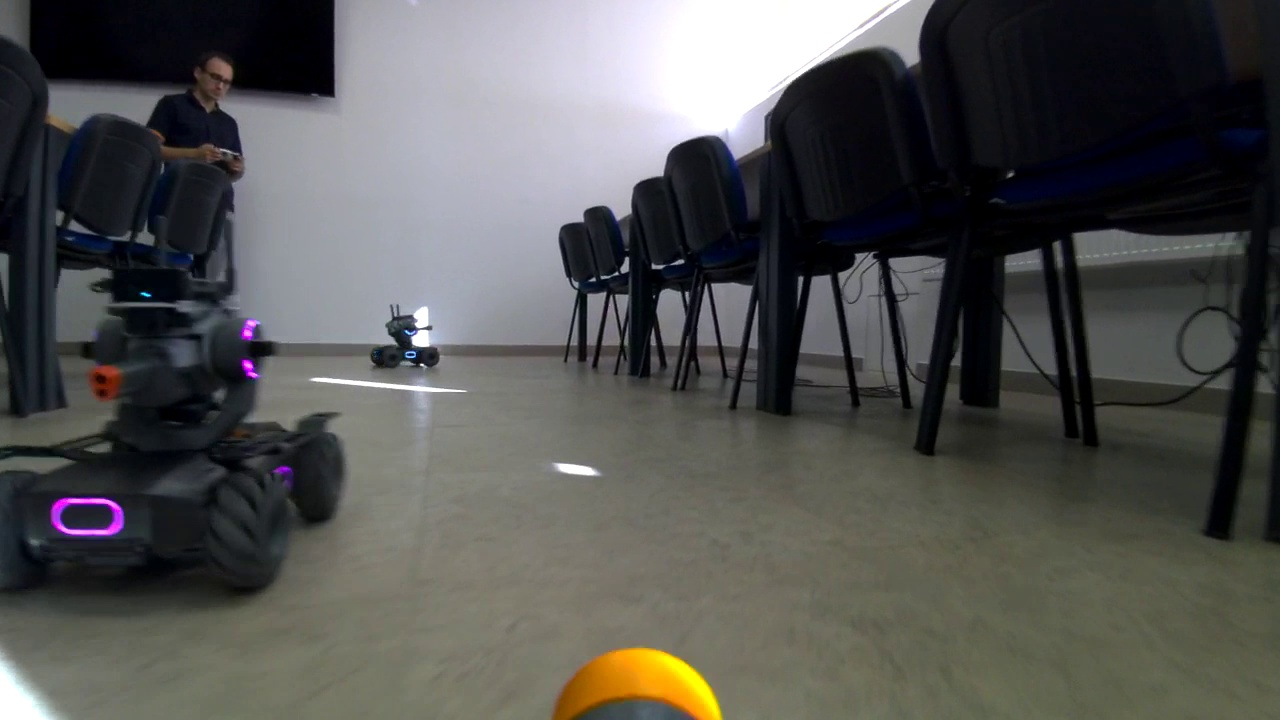robot: (18, 273, 340, 592), (367, 316, 449, 372)
